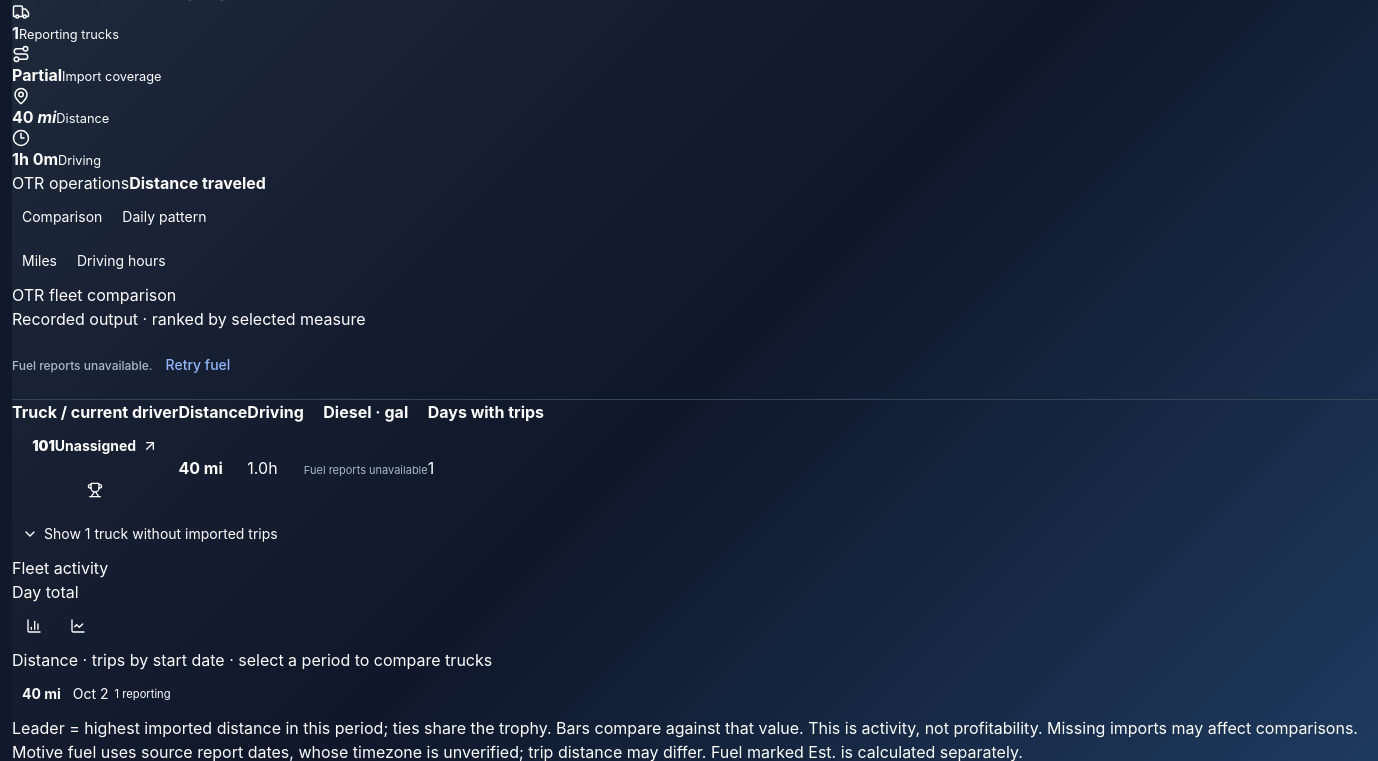
Test: OTR fleet overview › excludes missing trucks from the baseline and omits percentages without reporting peers
(page scrolled)
Click the button "Show 1 truck without imported trips".
click(150, 534)  # box [12,512,288,556]
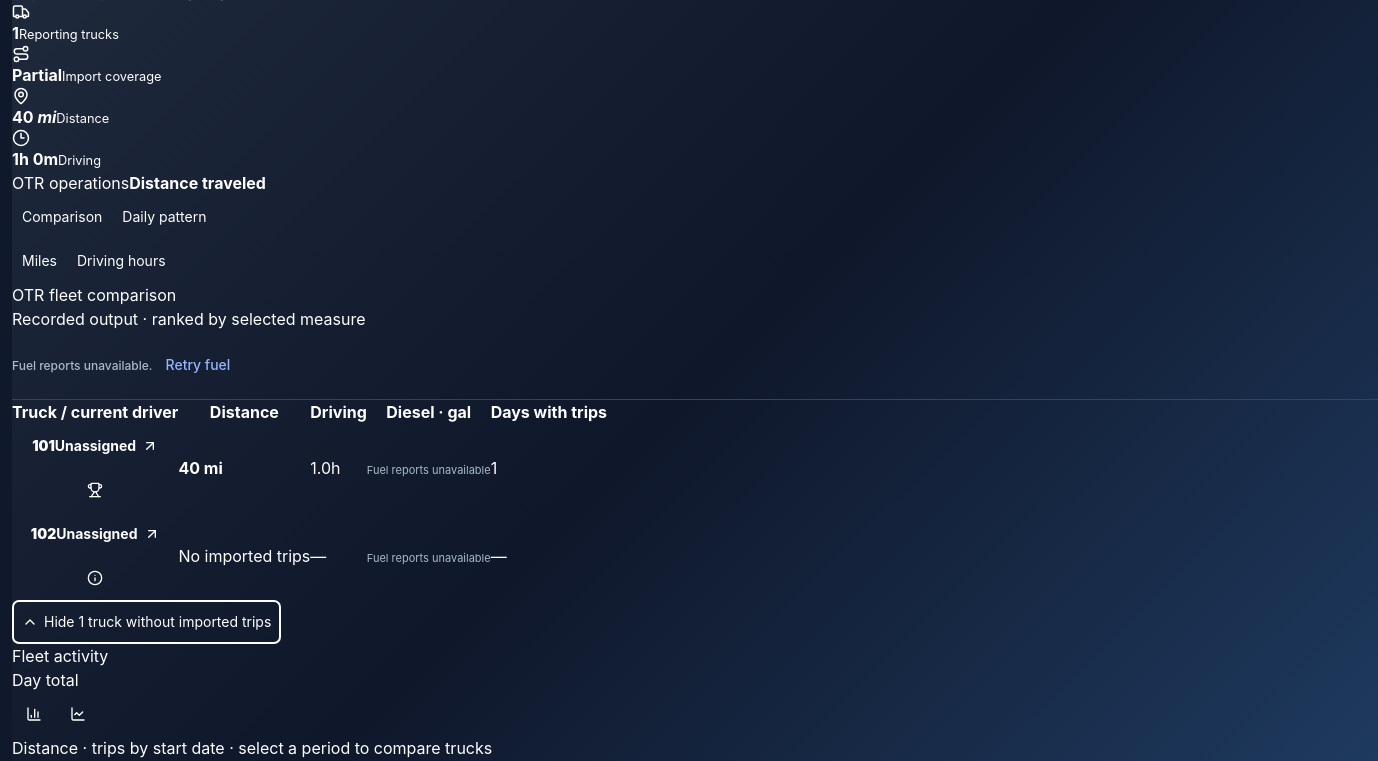
Result: the text "No imported trips" is shown at [178,546,310,566]
